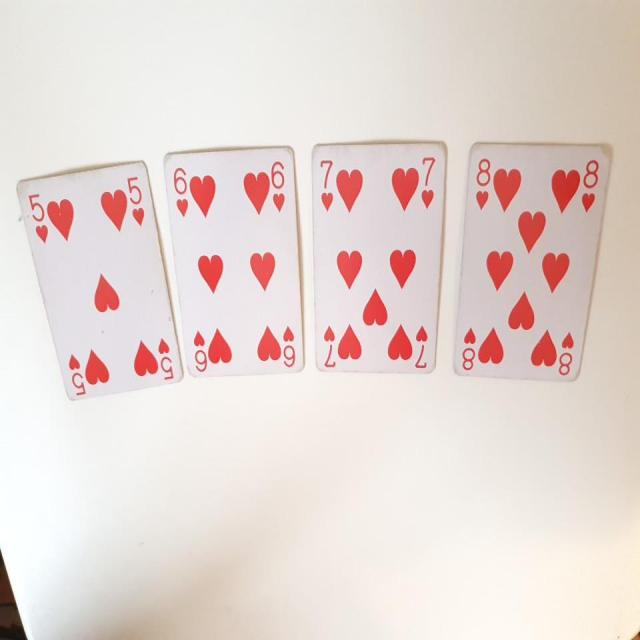5 Hearts: (11, 153, 186, 412)
6 Hearts: (162, 139, 311, 385)
7 Hearts: (304, 135, 456, 381)
8 Hearts: (453, 126, 612, 396)
